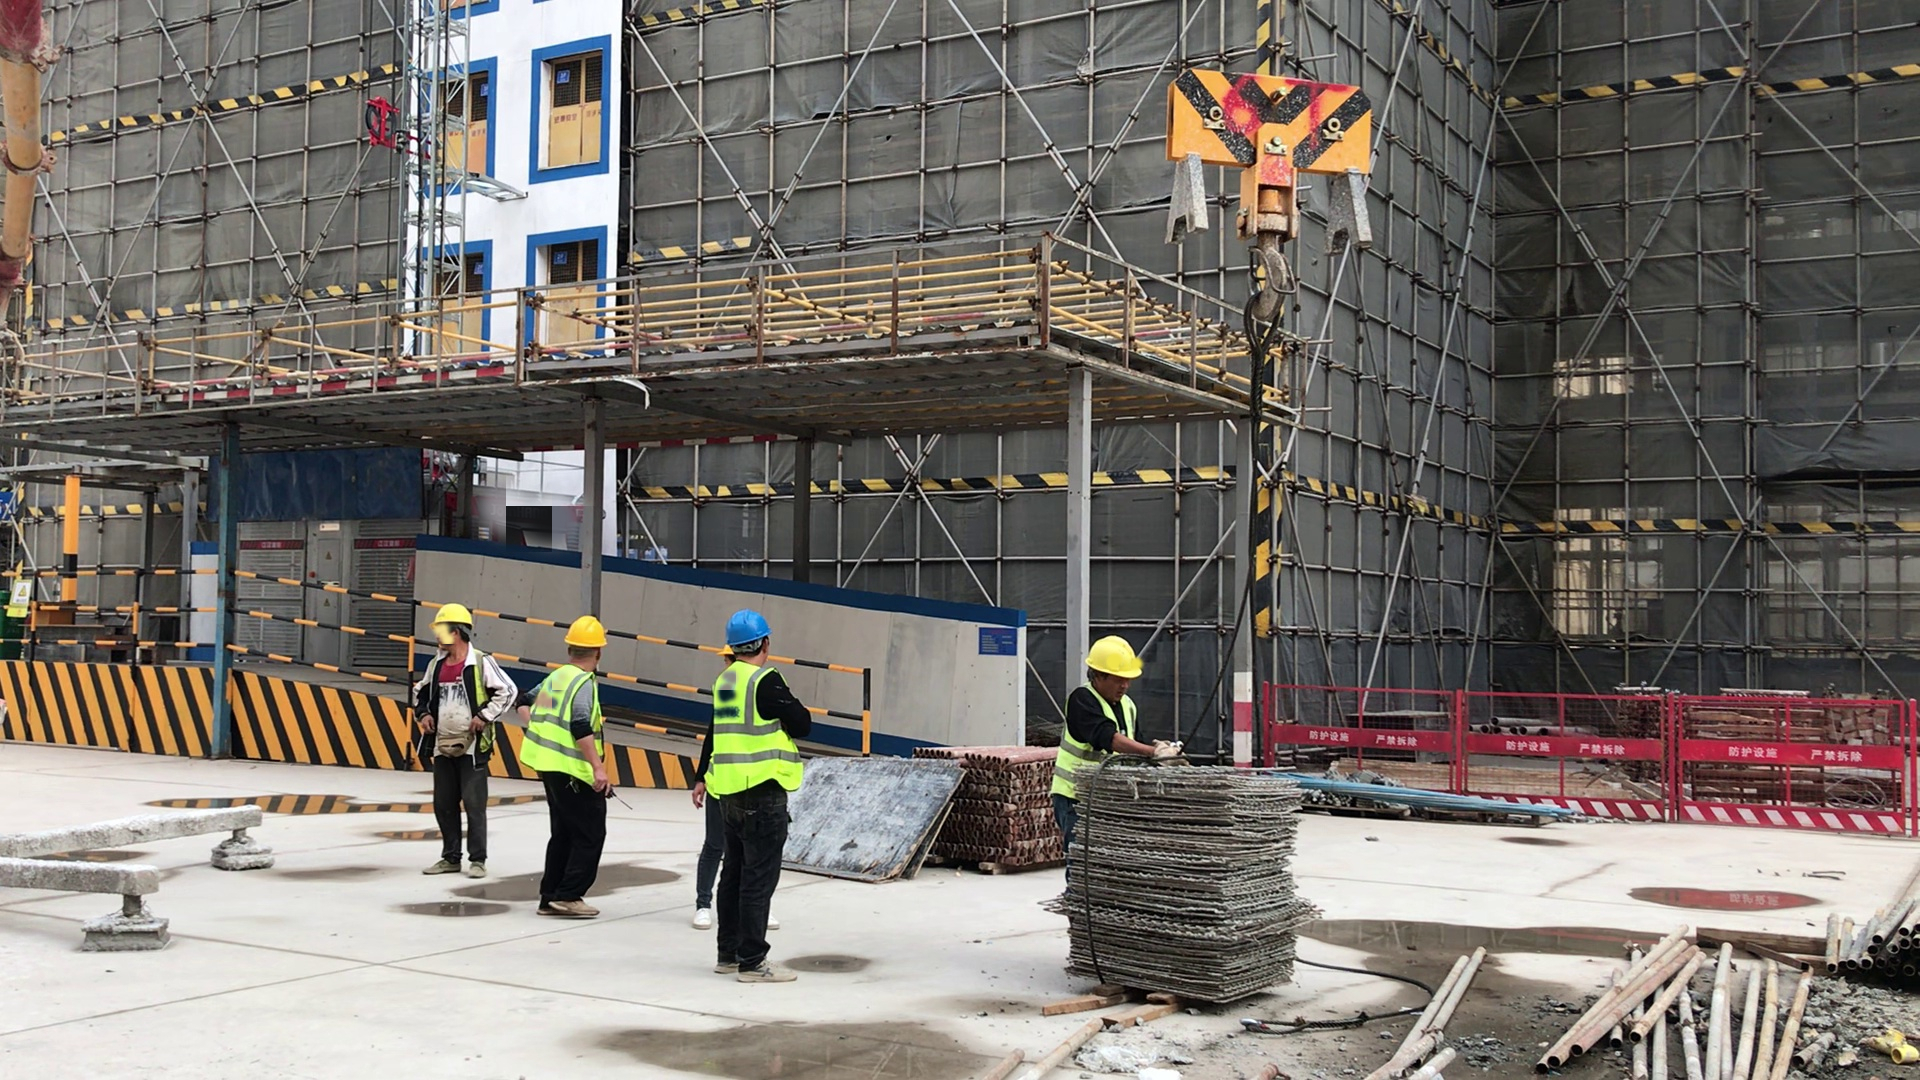fence: (1263, 674, 1920, 840)
helmet: (416, 583, 482, 642), (559, 600, 614, 666), (1078, 630, 1150, 680), (725, 612, 776, 651)
hook: (1160, 72, 1378, 237)
person: (704, 615, 808, 984), (1045, 614, 1130, 869), (427, 609, 508, 869), (549, 610, 607, 933)
scaffold: (918, 733, 1053, 870)
vest: (701, 672, 792, 792), (1060, 688, 1130, 801), (539, 665, 604, 779)
